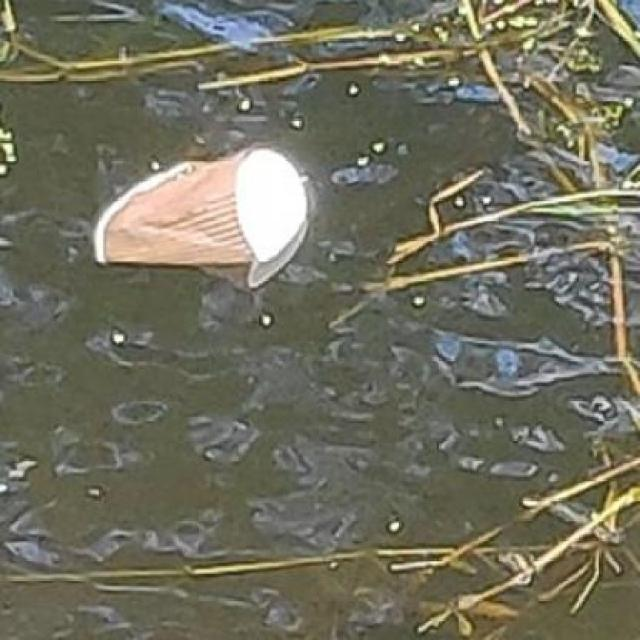Plastic cup: (91, 142, 312, 276)
